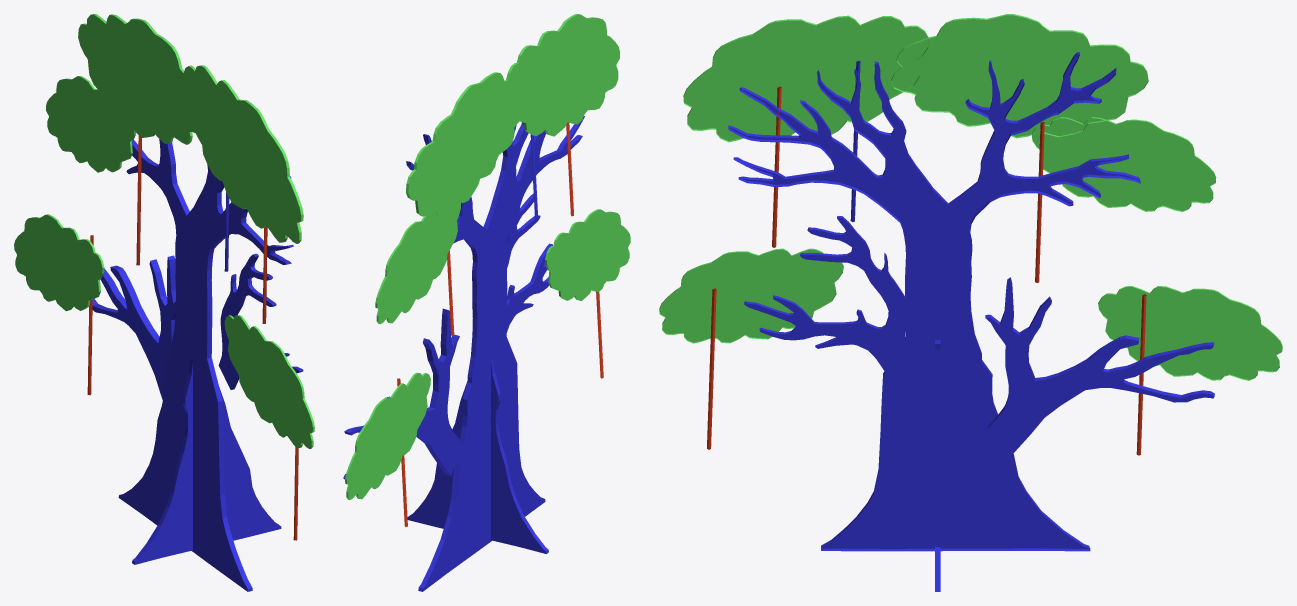
The model's file is Pantalla9_DEF_TRUE_ARbol.fbx.
3 views of the same model, side by side, from view 1: azimuth 30°, elevation 25°; view 2: azimuth 150°, elevation 25°; view 3: azimuth 270°, elevation 25° (orthographic). The views are drawn at different scales.
Parts seen in each view (by area): view 1: Arbol1.016; view 2: Arbol1.016; view 3: Arbol1.016.
Boxes of the visible parts, x1,y1,x2,y2 form: Arbol1.016: (14,14,314,591); Arbol1.016: (343,14,630,591); Arbol1.016: (659,14,1282,591).
Size of the model in its own units: 1133 by 3740 by 3997.
